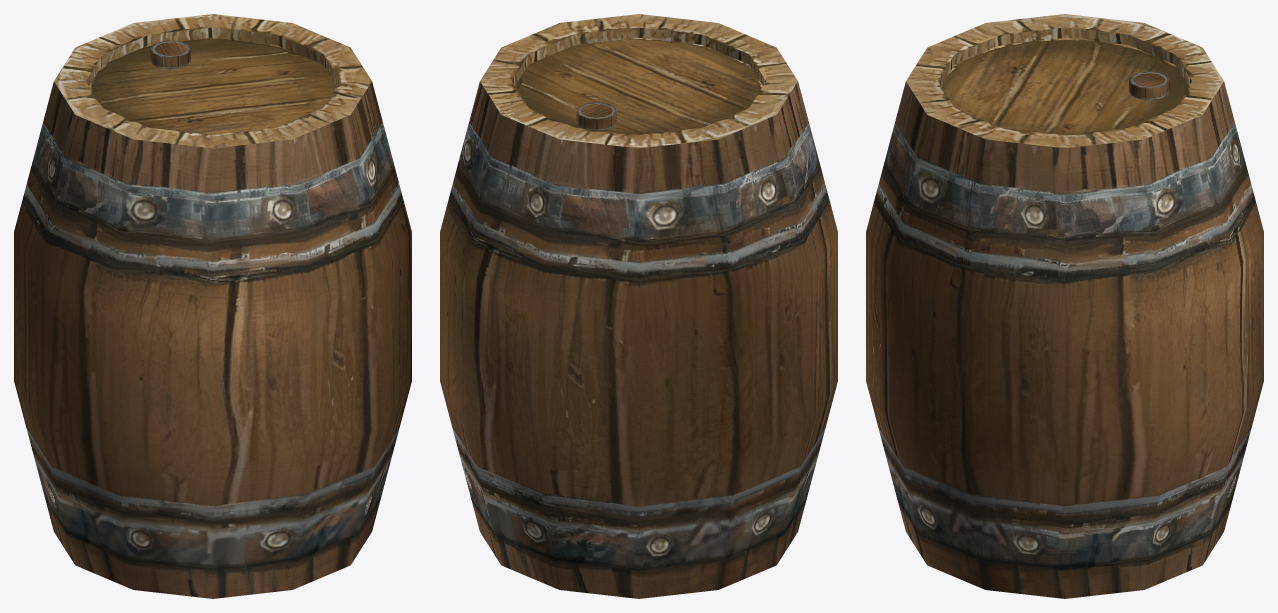
File: barrel-01.fbx
3 views of the same model, side by side, from view 1: azimuth 30°, elevation 25°; view 2: azimuth 150°, elevation 25°; view 3: azimuth 270°, elevation 25° (orthographic).
Visible parts, largest first — view 1: Cylinder.003; view 2: Cylinder.003; view 3: Cylinder.003.
Boxes of the visible parts, x1,y1,x2,y2 form: Cylinder.003: [14, 14, 411, 598]; Cylinder.003: [440, 14, 837, 598]; Cylinder.003: [866, 14, 1263, 598].
Bounding box in the file's own units: 0.64 × 0.8021 × 0.64.
